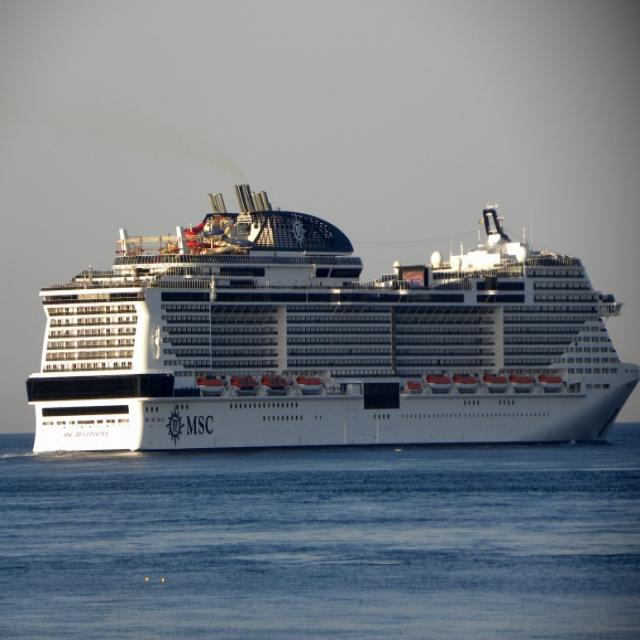cruises: (19, 181, 640, 467)
